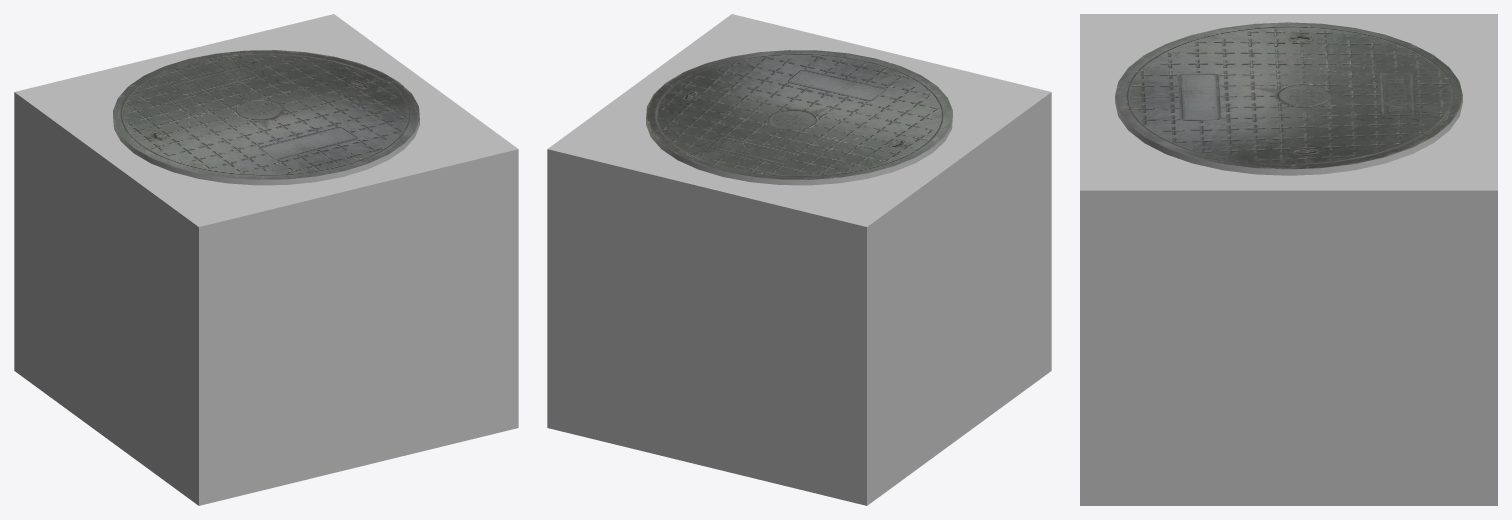
3 renders of one model, left to right at view 1: azimuth 30°, elevation 25°; view 2: azimuth 150°, elevation 25°; view 3: azimuth 270°, elevation 25°, orthographic. The views are drawn at different scales.
Parts seen in each view (by area): view 1: 524010; view 2: 524010; view 3: 524010.
Boxes of the visible parts, left/top/right/bottom form: 524010: left=14, top=14, right=518, bottom=505; 524010: left=547, top=14, right=1051, bottom=505; 524010: left=1080, top=14, right=1497, bottom=505.
Size of the model in its own units: 1.2 by 1.02 by 1.2.
7 materials, 1 textured.
